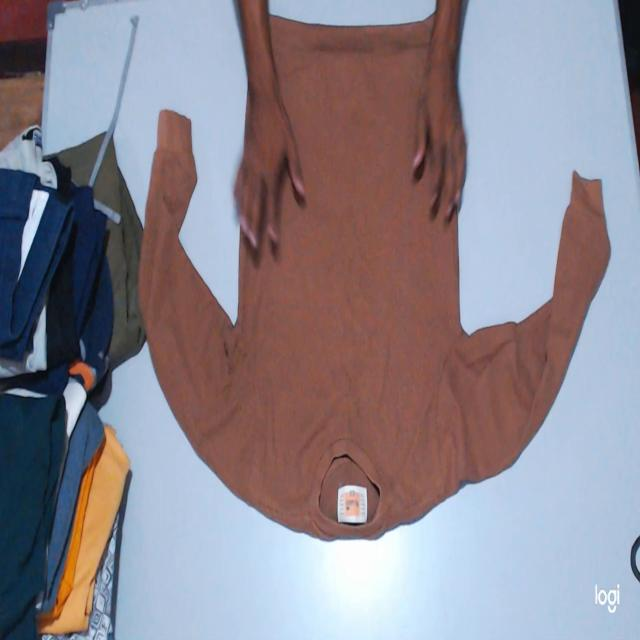new-garment: (139, 17, 610, 539)
